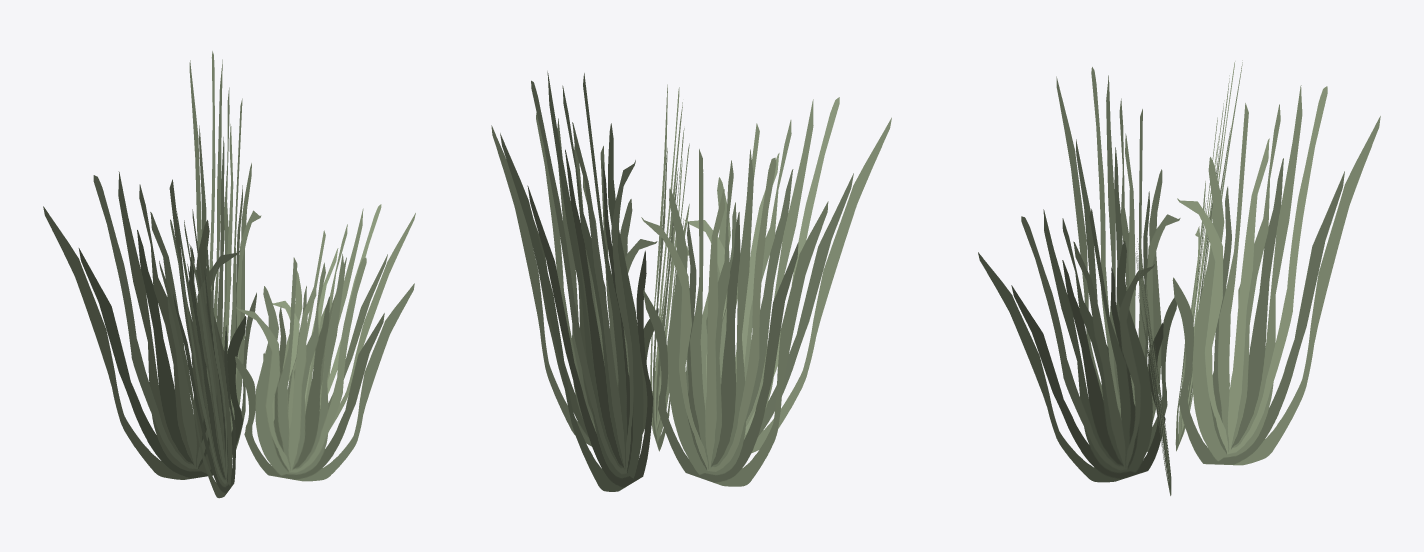
File: source.gltf
3 renders of one model, left to right at view 1: azimuth 30°, elevation 25°; view 2: azimuth 150°, elevation 25°; view 3: azimuth 270°, elevation 25°, orthographic. The views are drawn at different scales.
Size of the model in its own units: 1.59 by 1.51 by 1.54.
Materials: 1 (1 with a texture image).
